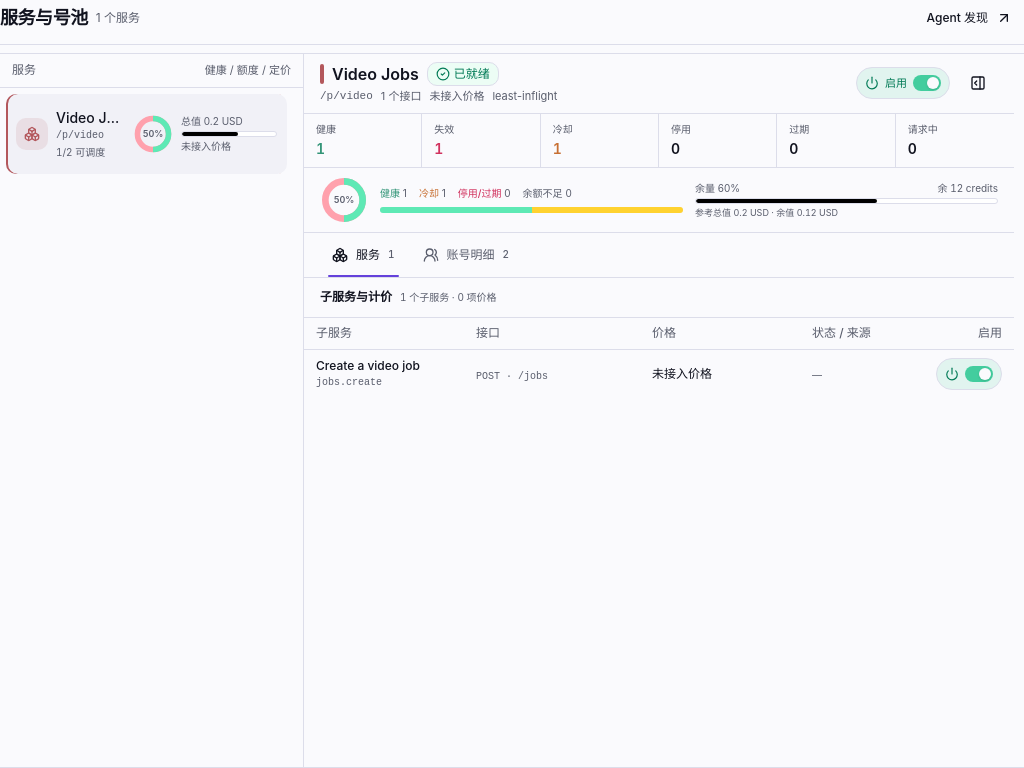
Test: ProtocolsPage master-detail pool console › opens account operations in the right-side detail surface
The width and height of the screenshot is (1024, 768).
Click the tab "账号明细 2" at (466, 254), box [410, 232, 521, 276]
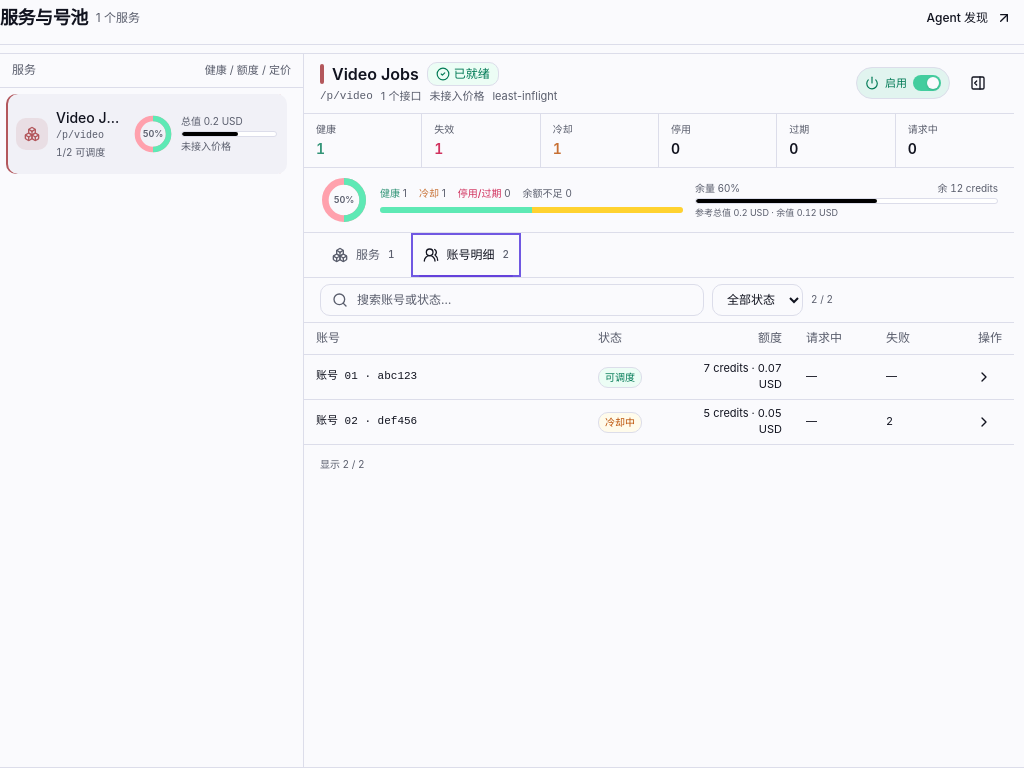
Click the button "账号 02 · def456" at (445, 422), box [316, 404, 574, 440]
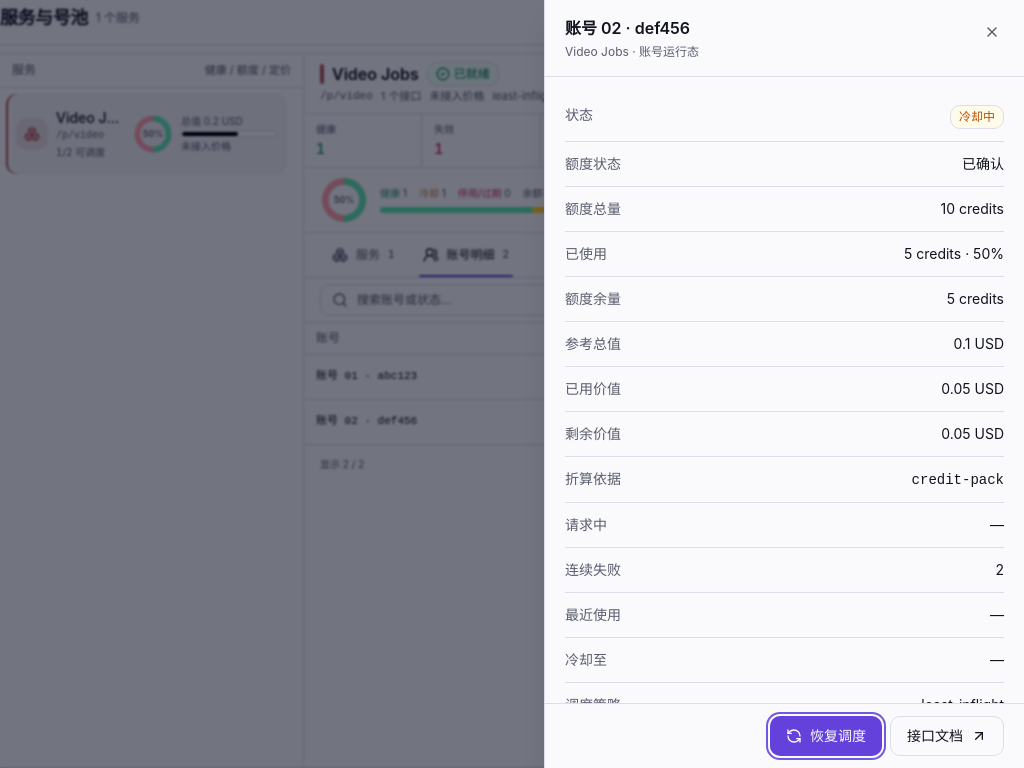
Check: the heading "账号 02 · def456" is shown, box [565, 18, 690, 38]
Check: the text "连续失败" is shown, box [565, 561, 621, 578]
Check: the text "0.1 USD" is shown, box [954, 335, 1004, 352]
